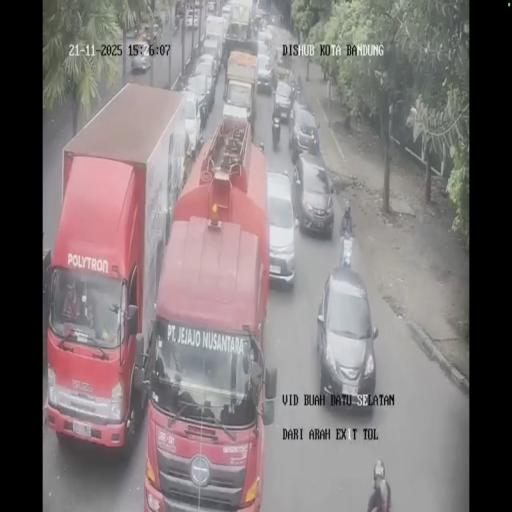car: (266, 171, 296, 288), (292, 153, 333, 236), (222, 82, 254, 134), (289, 104, 319, 159), (184, 73, 212, 128), (272, 82, 294, 122), (200, 37, 221, 78), (256, 53, 272, 90), (257, 27, 273, 55), (253, 8, 271, 29), (186, 8, 200, 29), (220, 2, 232, 26), (268, 12, 280, 26), (126, 26, 138, 38), (206, 0, 216, 13)
motorcycle: (290, 78, 296, 102)
truck: (46, 83, 192, 455), (131, 32, 151, 72), (175, 0, 185, 20)
